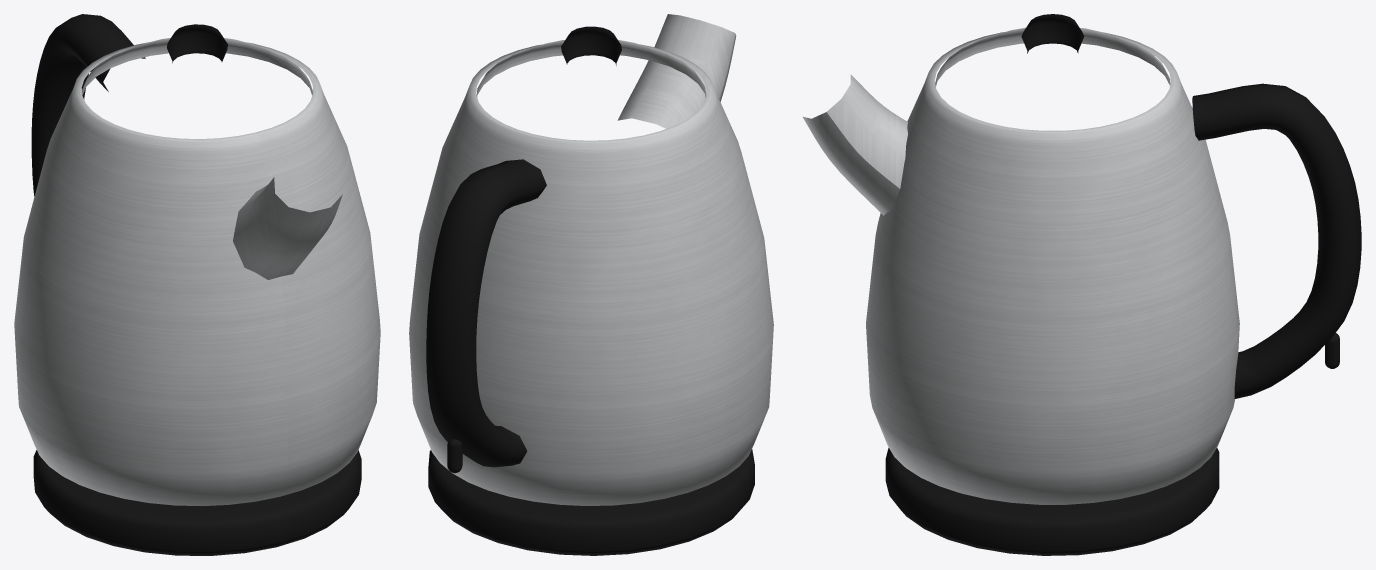
Rendered from objects-kettle.glb.
The picture shows the model from 3 angles, left to right: view 1: azimuth 30°, elevation 25°; view 2: azimuth 150°, elevation 25°; view 3: azimuth 270°, elevation 25°; orthographic projection. The views are drawn at different scales.
Visible parts, largest first — view 1: body, power_base, handle, spout, lid, lid_knob; view 2: body, handle, power_base, spout, lid, lid_knob, power_switch; view 3: body, handle, power_base, spout, lid, lid_knob.
Boxes of the visible parts, x1,y1,x2,y2 form: body: (14,42,380,505); power_base: (33,450,361,555); handle: (31,14,145,196); spout: (233,177,342,279); lid: (82,38,313,95); lid_knob: (167,24,227,63); body: (409,44,773,505); handle: (426,159,546,467); power_base: (428,449,754,555); spout: (617,14,736,128); lid: (476,40,706,97); lid_knob: (561,26,621,65); power_switch: (447,438,462,473); body: (866,32,1239,504); handle: (1192,83,1361,398); power_base: (885,448,1219,555); spout: (803,74,907,215); lid: (935,27,1170,86); lid_knob: (1021,14,1084,53).
Size of the model in its own units: 0.1893 by 0.261 by 0.284.
2 materials, 1 textured.
